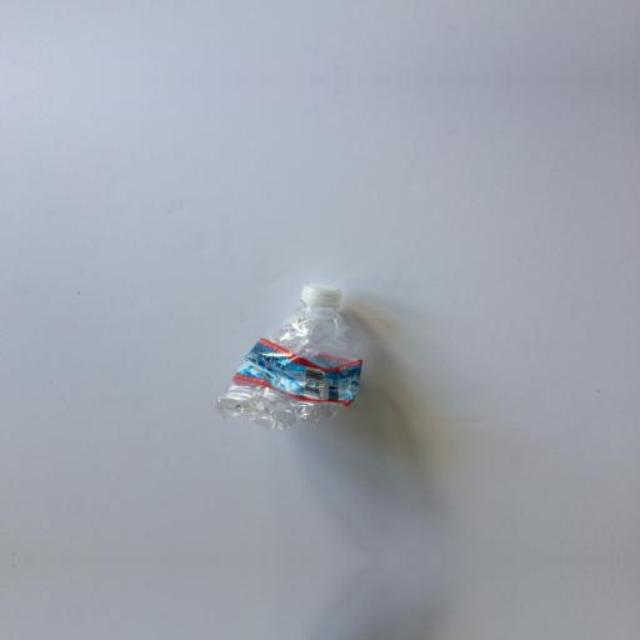Plastic: (176, 249, 420, 449)
